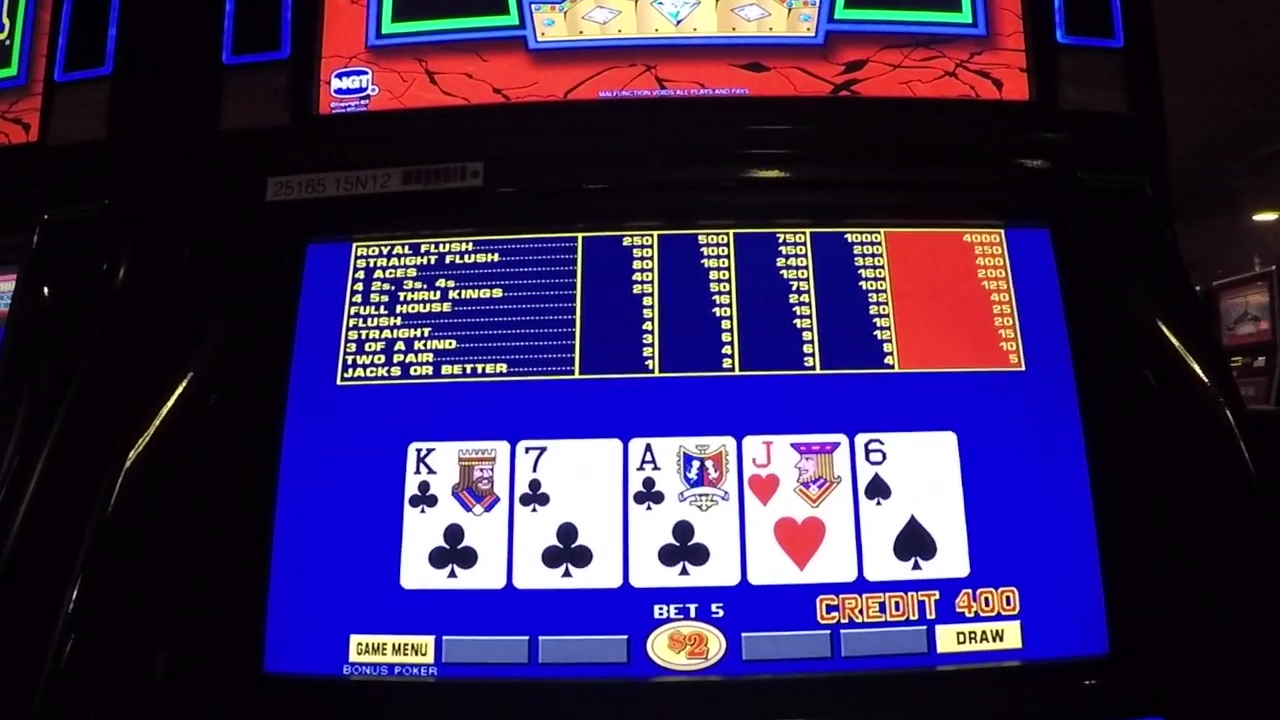C7: (520, 438, 619, 520)
CA: (626, 439, 733, 526)
CK: (407, 442, 500, 518)
HJ: (746, 433, 846, 518)
S6: (856, 432, 959, 513)
